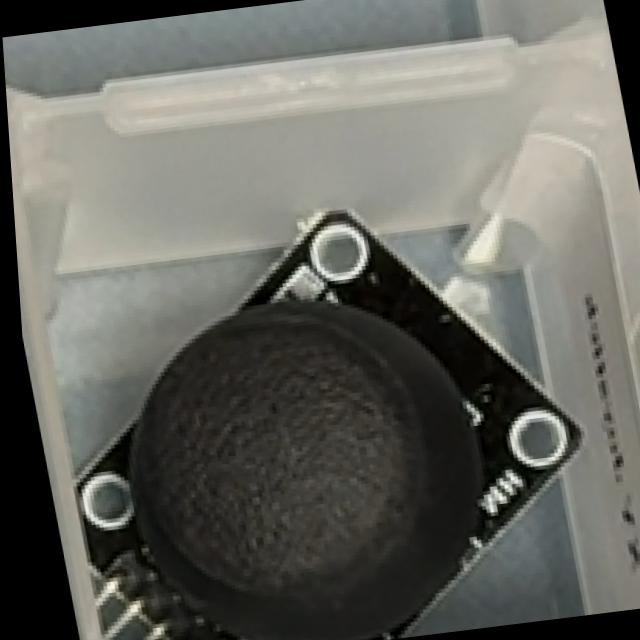XY Joystick: (12, 178, 619, 640)
